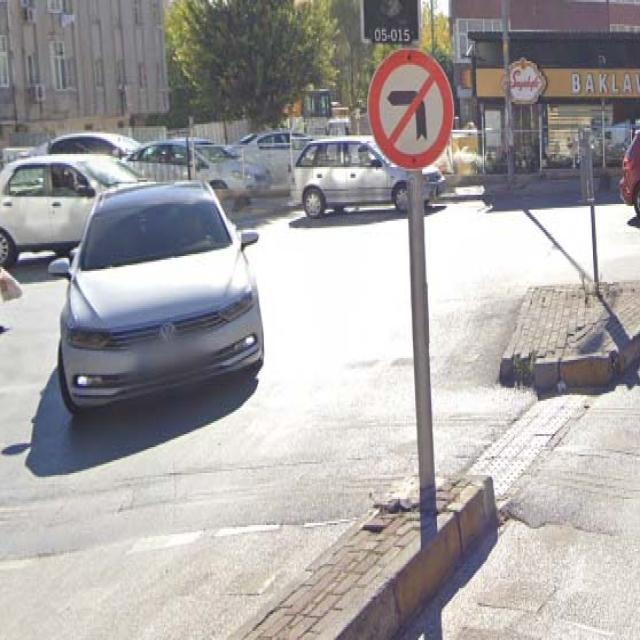soladonulmez: (367, 50, 454, 171)
